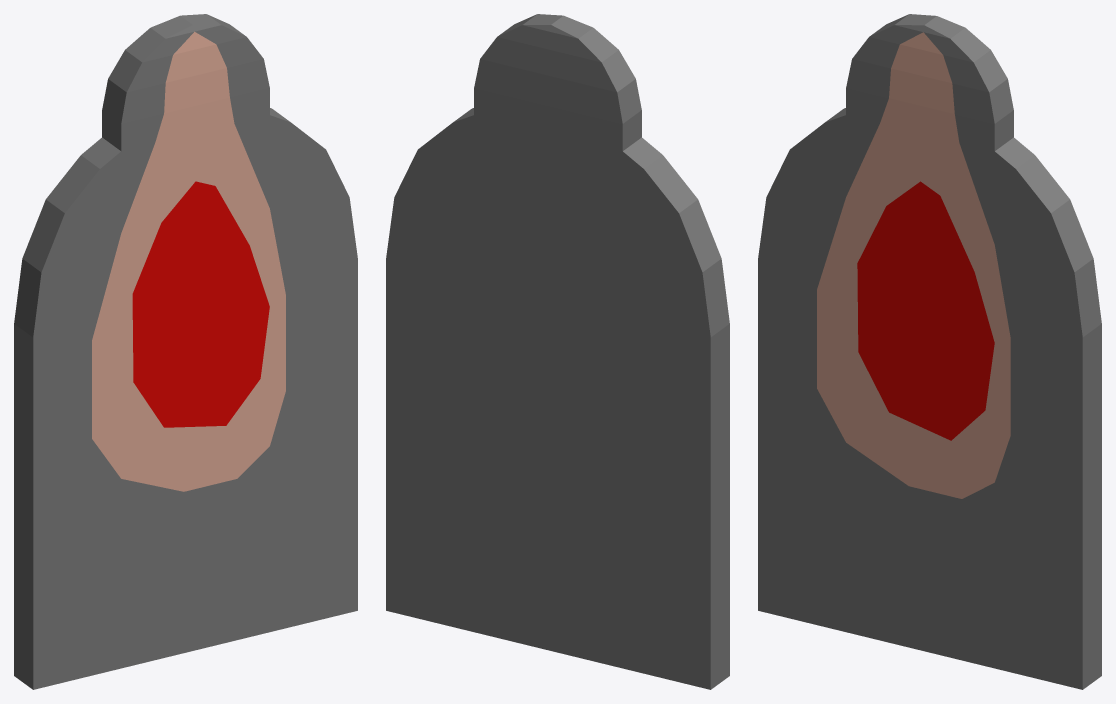
File: Targets.fbx
The picture shows the model from 3 angles, left to right: view 1: azimuth 30°, elevation 25°; view 2: azimuth 150°, elevation 25°; view 3: azimuth 330°, elevation 25°; orthographic projection.
Visible parts, largest first — view 1: Targets; view 2: Targets; view 3: Targets.
Part boxes in pixels (<box>): Targets: <box>14,14,357,689</box>; Targets: <box>386,14,729,689</box>; Targets: <box>758,14,1101,689</box>.
Size of the model in its own units: 490 by 898 by 50.
